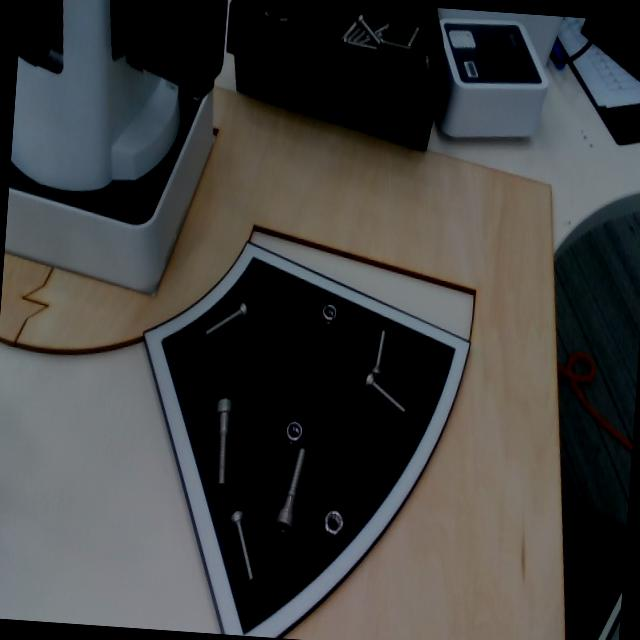big: (271, 440, 312, 543), (209, 396, 237, 487)
circle: (322, 507, 348, 541), (282, 417, 307, 448), (317, 302, 339, 331)
small: (355, 371, 408, 424), (196, 296, 254, 341), (227, 503, 257, 586), (366, 324, 393, 381)
